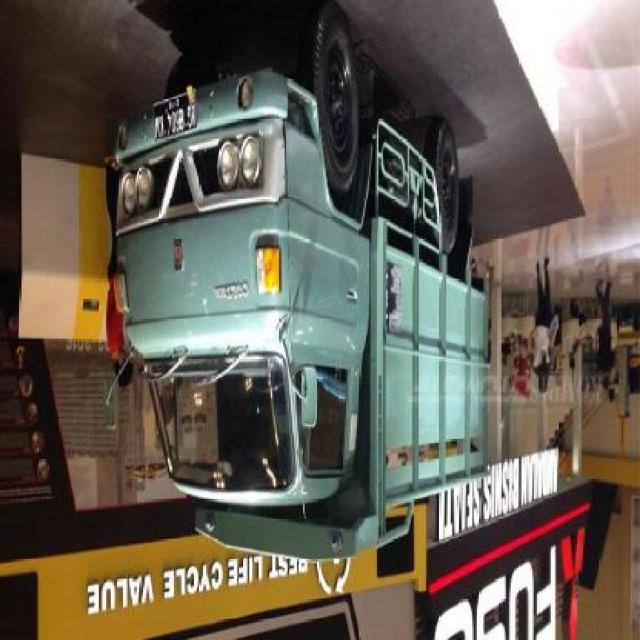truck: (106, 16, 490, 560)
